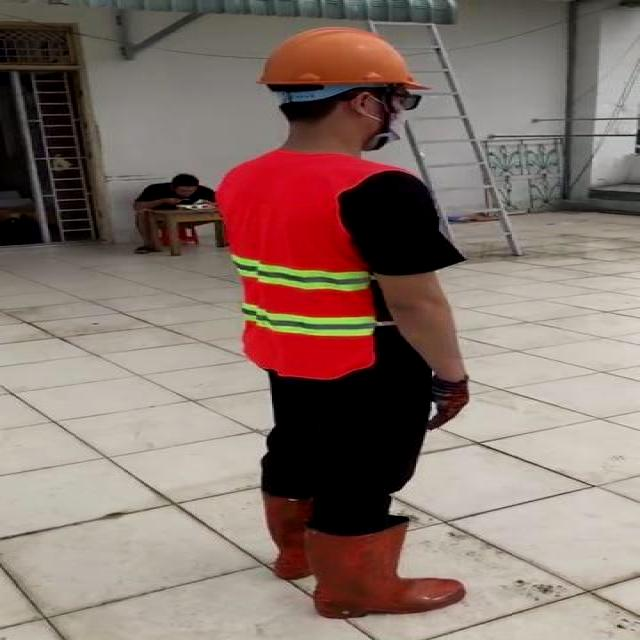boots: (302, 522, 466, 619), (263, 490, 309, 583)
hand_glove: (430, 374, 470, 433)
head_helmet: (247, 26, 439, 94)
person: (178, 19, 522, 634)
vest: (217, 152, 391, 379)
